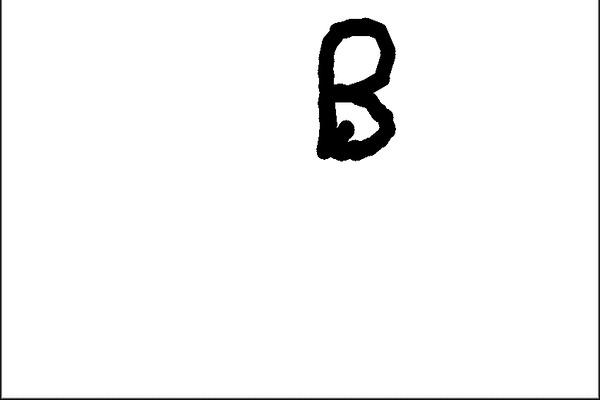B: (309, 14, 401, 166)
